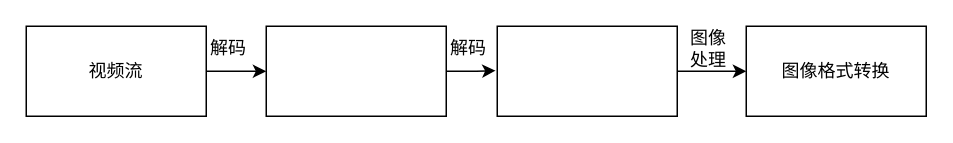
This 953x143 diagram has some shape labels left out. Here are the shapes that lost their labels. From the top down, the centre of each, then its label:
At (355,70): "图像帧".
At (586,70): "图像去噪伽马矫正".
